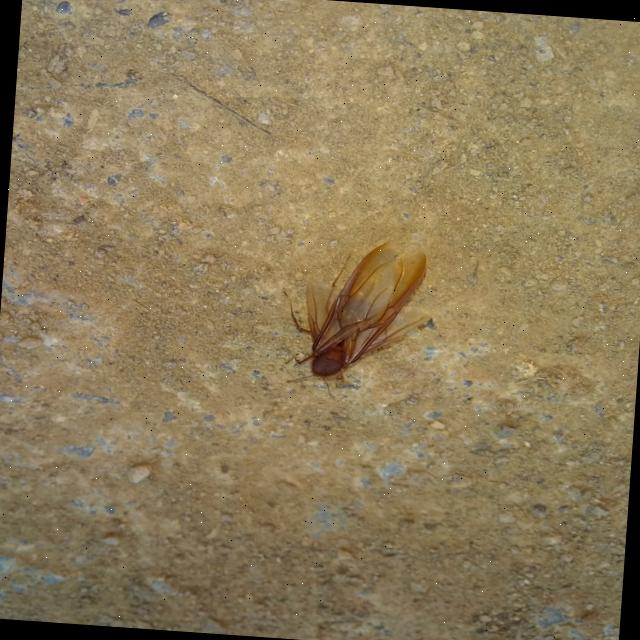Alive-Male-Alate: (274, 230, 438, 404)
